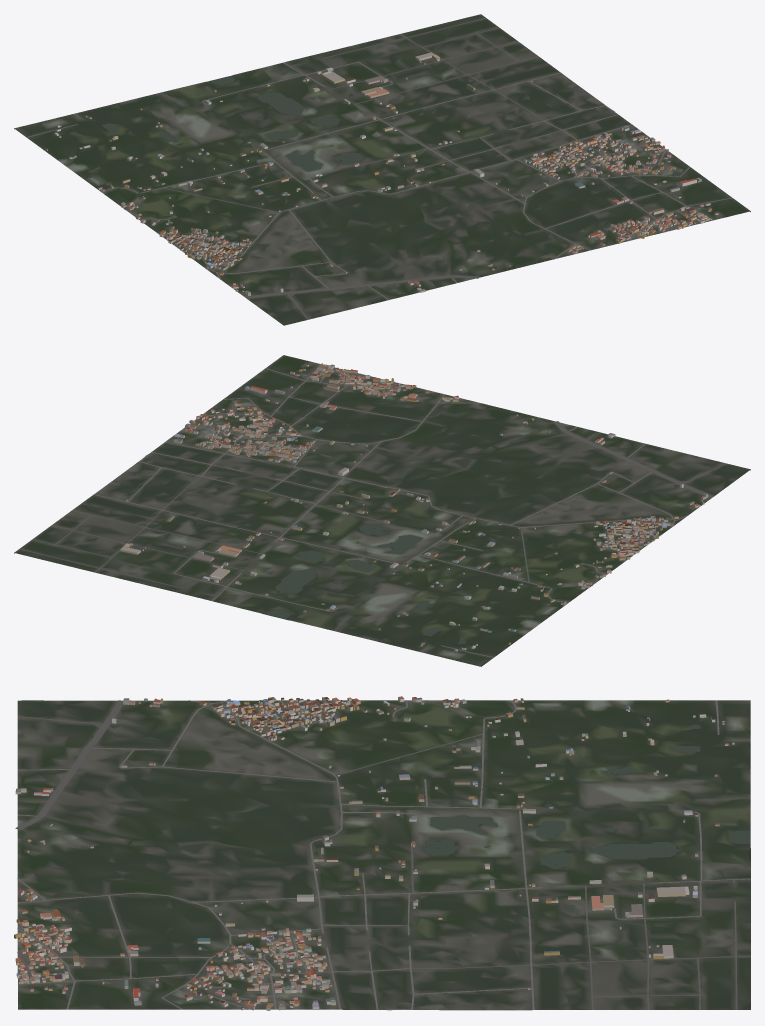
3 renders of one model, top to bottom at view 1: azimuth 30°, elevation 25°; view 2: azimuth 150°, elevation 25°; view 3: azimuth 270°, elevation 25°, orthographic. The views are drawn at different scales.
Parts seen in each view (by area): view 1: ground, buildings, roads, water; view 2: ground, buildings, roads, water; view 3: ground, buildings, roads, water.
Part boxes in pixels (x1,y1,x2,y2): ground: [14, 14, 750, 325]; buildings: [45, 52, 718, 295]; roads: [27, 18, 732, 319]; water: [70, 76, 400, 171]; ground: [14, 355, 750, 666]; buildings: [120, 363, 708, 651]; roads: [19, 366, 726, 657]; water: [221, 523, 465, 643]; ground: [17, 700, 750, 1010]; buildings: [14, 696, 734, 1010]; roads: [15, 700, 750, 1010]; water: [420, 725, 750, 914].
Bounding box in the file's own units: 1411 × 14.99 × 1409.
